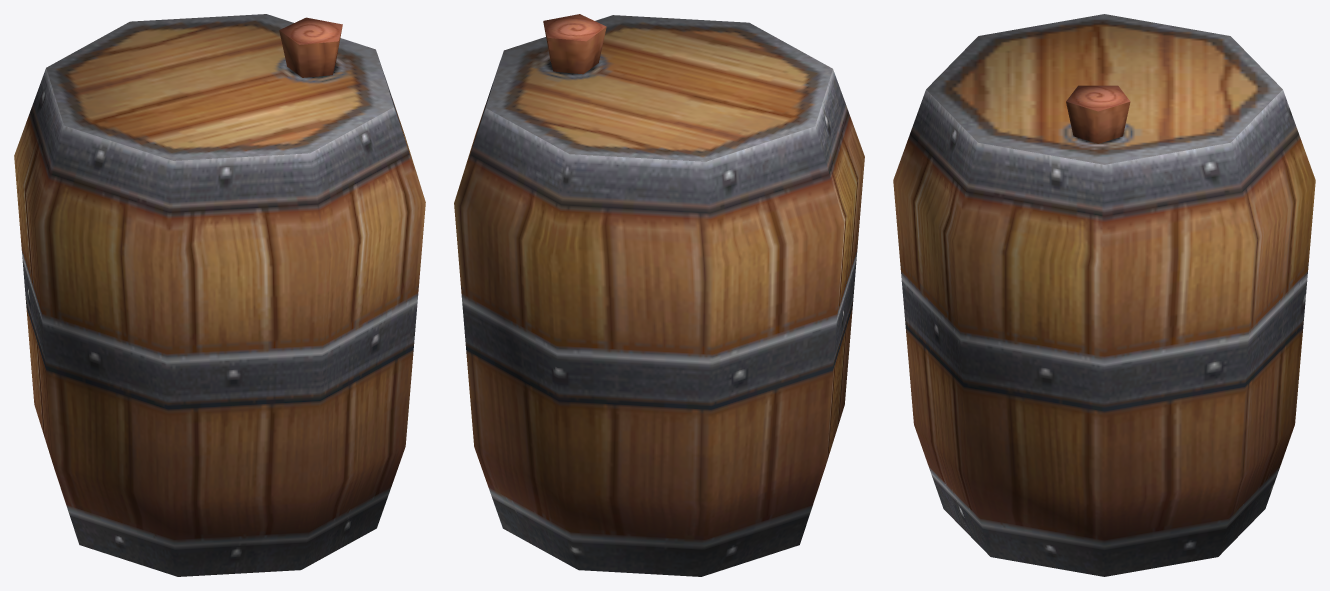
The model's file is obj_macoprdr01.glb.
The picture shows the model from 3 angles, left to right: view 1: azimuth 30°, elevation 25°; view 2: azimuth 150°, elevation 25°; view 3: azimuth 270°, elevation 25°; orthographic projection.
Parts seen in each view (by area): view 1: part_0; view 2: part_0; view 3: part_0.
Part boxes in pixels (bbox=[...]): part_0: bbox=[14, 14, 425, 576]; part_0: bbox=[454, 14, 864, 576]; part_0: bbox=[893, 14, 1315, 576].
Size of the model in its own units: 0.9178 by 1.09 by 0.9178.
1 material, 1 textured.
